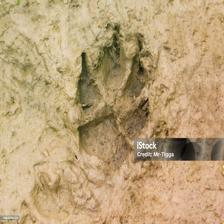wolf: (76, 20, 156, 178)
